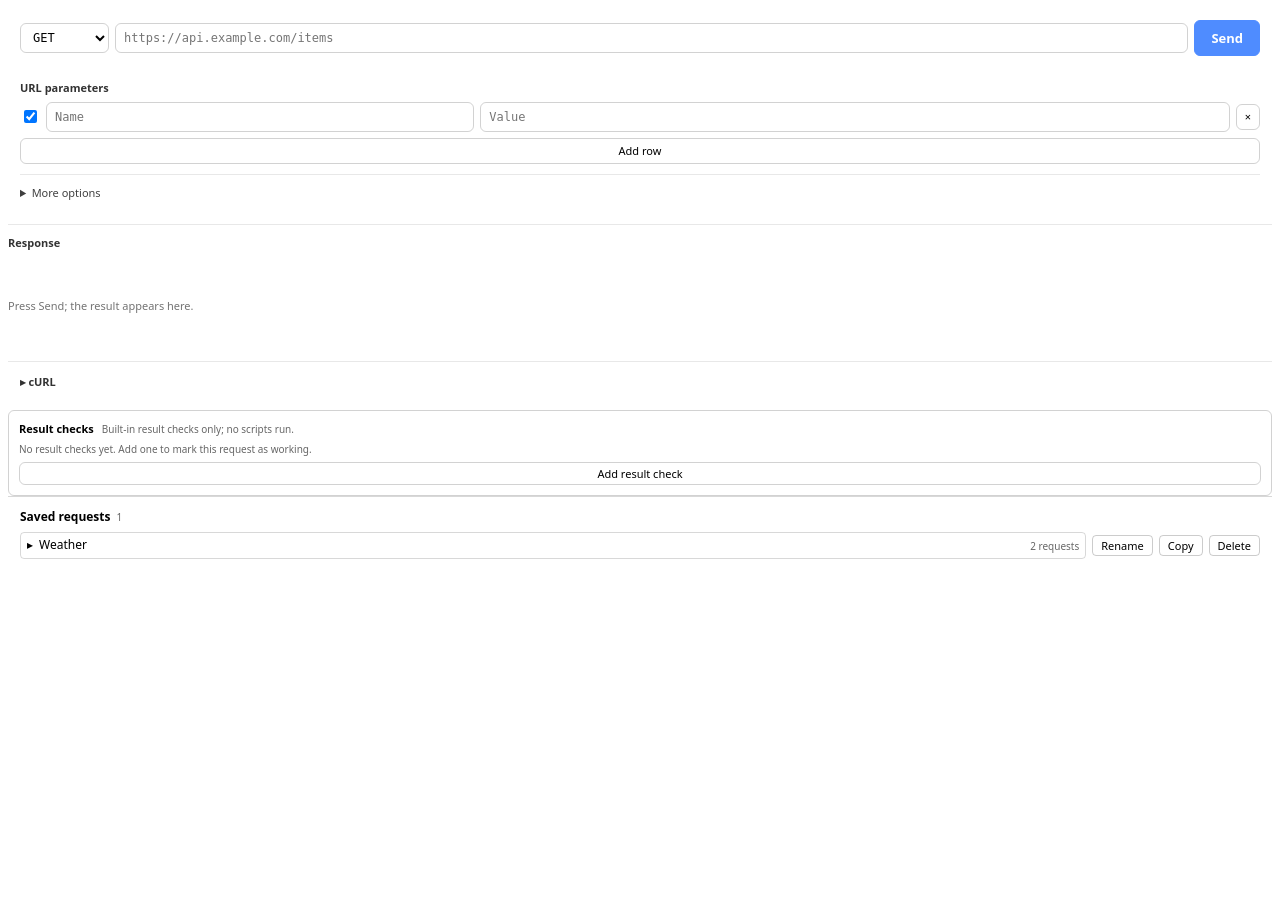
Scenario: CollectionTree open › loads a saved request into the builder without sending it
This screenshot has width=1280, height=900.
Click the text "Weather". click: (63, 545)
box: [39,536,87,553]
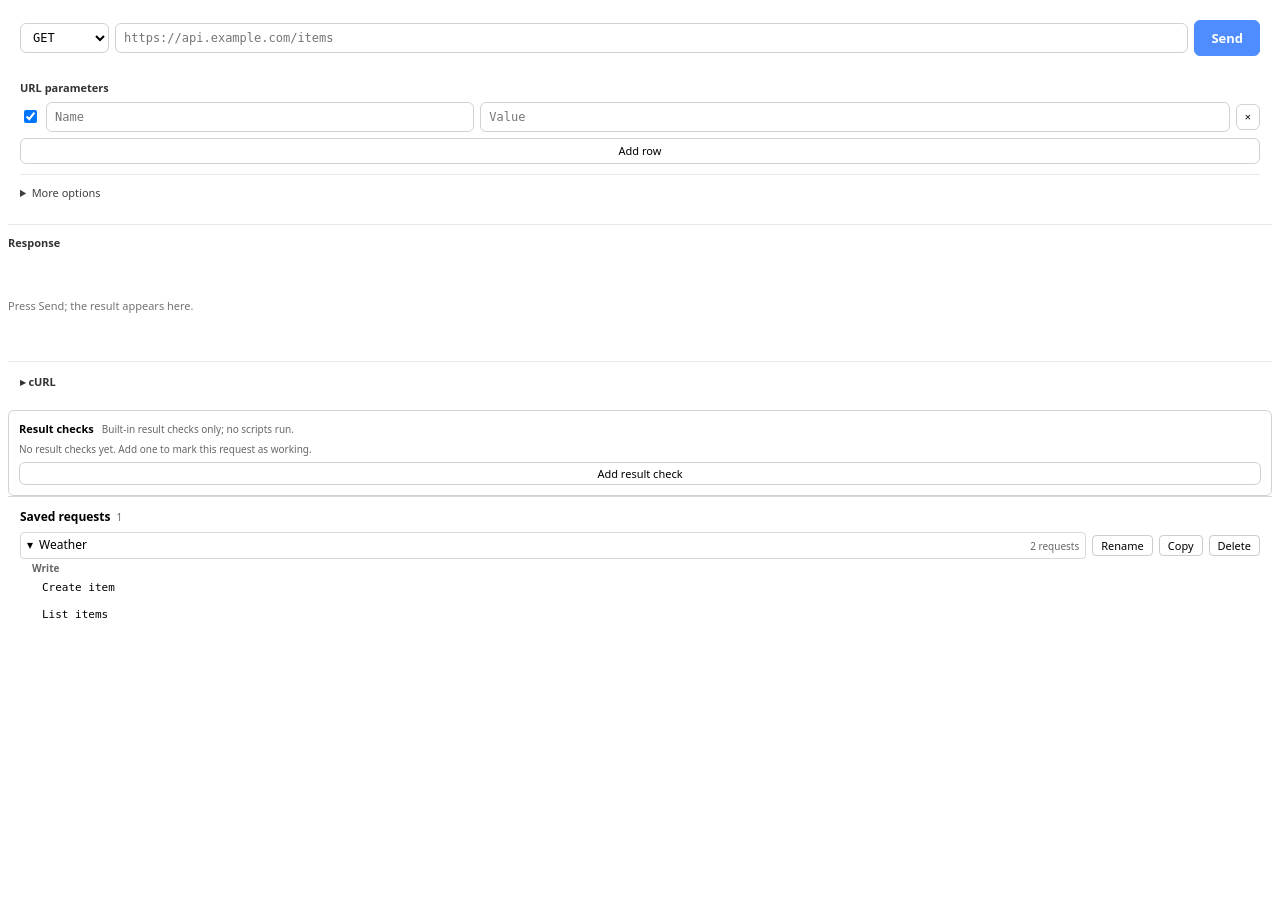
Click the button "Create item". click: (78, 587)
box: [36,577,1260,598]
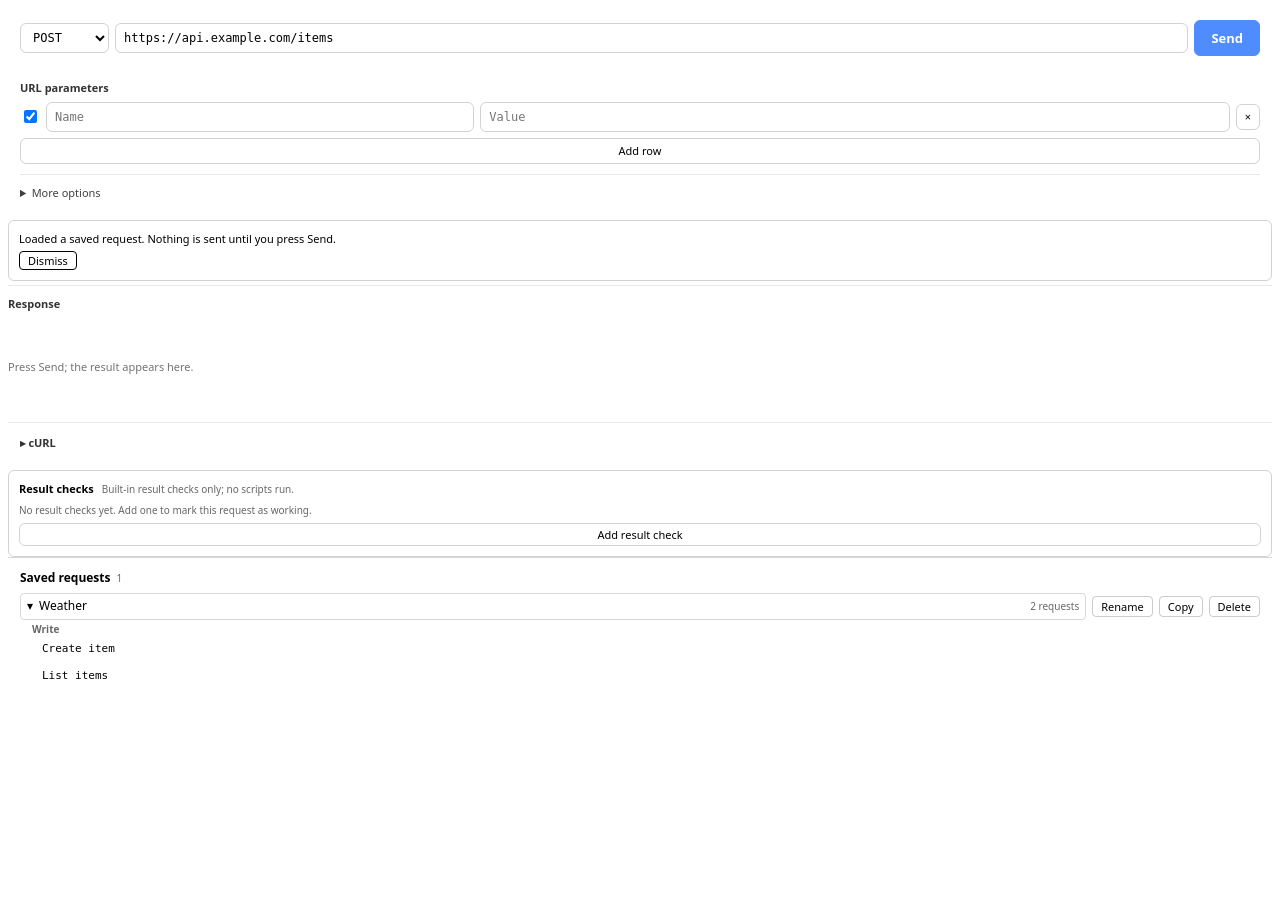
Expected: the field named "URL" holds "https://api.example.com/items", [115,23,1188,54]
Expected: the dropdown named "Method" shows "POST", [20,23,109,53]
Expected: the text "Loaded a saved request" is shown, [19,231,336,246]
